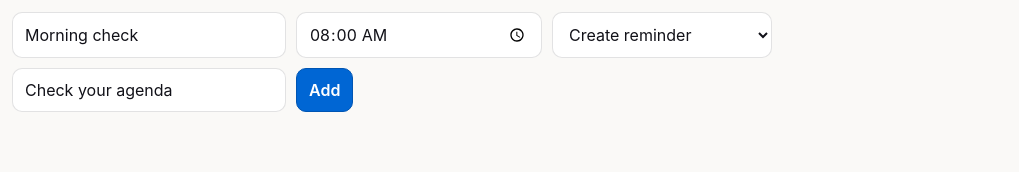
Scenario: RuleForm › shows device selector when Toggle device is selected
The width and height of the screenshot is (1019, 172).
Select "Toggle device" in the dropdown named "Rule action type": (662,35) [552, 12, 772, 58]
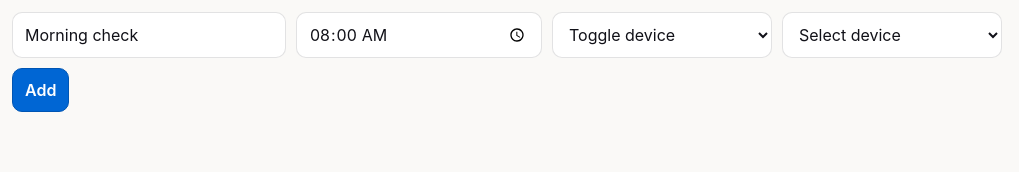
Check: the dropdown named "Device to toggle" is shown, box [782, 12, 1002, 58]
